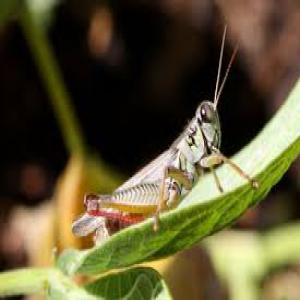locust: (84, 75, 237, 291)
